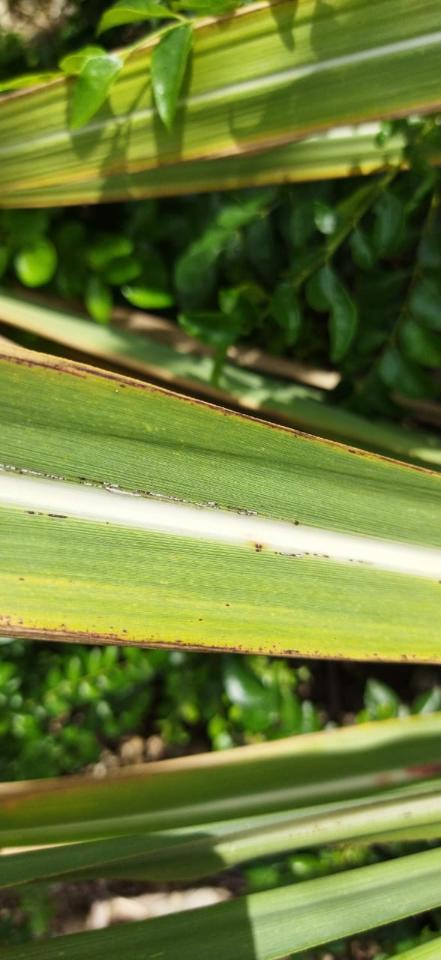Rust: (0, 349, 437, 479), (0, 614, 429, 663), (0, 460, 301, 527), (272, 548, 331, 561), (23, 509, 69, 522), (254, 543, 263, 554), (17, 577, 25, 581), (197, 618, 204, 622), (224, 603, 230, 607)
